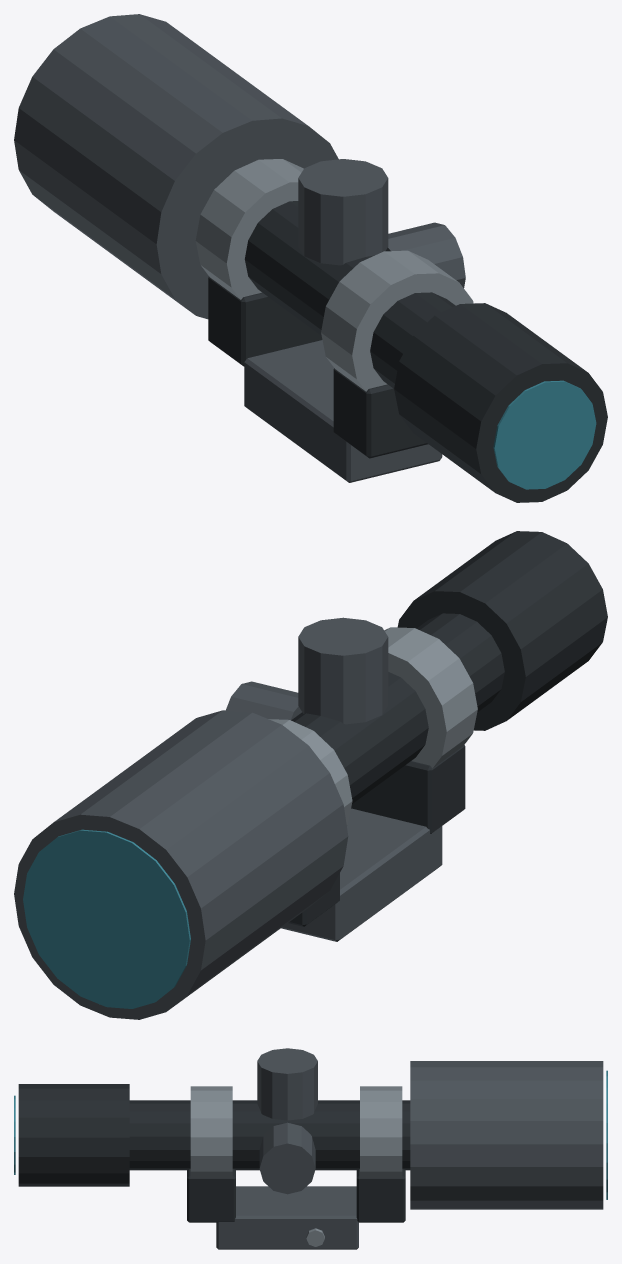
The model's file is att_optic_scope8.glb.
3 renders of one model, top to bottom at view 1: azimuth 30°, elevation 25°; view 2: azimuth 150°, elevation 25°; view 3: azimuth 270°, elevation 25°, orthographic. The views are drawn at different scales.
Visible parts, largest first — view 1: Geometry_att_optic_scope8; view 2: Geometry_att_optic_scope8; view 3: Geometry_att_optic_scope8.
Part boxes in pixels (bbox=[...]): Geometry_att_optic_scope8: bbox=[14, 14, 607, 502]; Geometry_att_optic_scope8: bbox=[14, 531, 607, 1019]; Geometry_att_optic_scope8: bbox=[14, 1048, 607, 1249].
Bounding box in the file's own units: 0.066 × 0.082 × 0.254.
